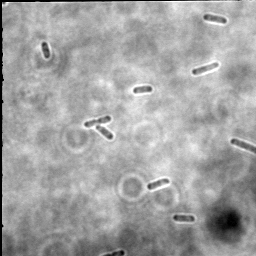Dividing: (83, 114, 112, 128)
Rod: (191, 60, 221, 77), (230, 137, 255, 154), (94, 124, 115, 142), (146, 177, 171, 192), (203, 13, 228, 26), (172, 213, 196, 223), (132, 85, 153, 95), (41, 41, 51, 60)
